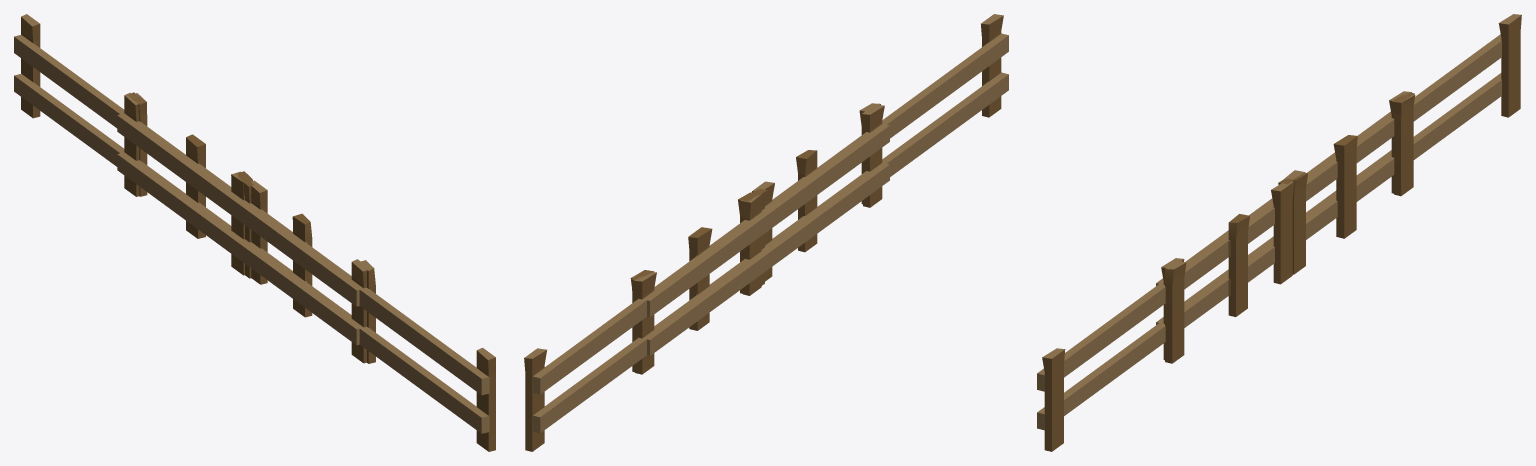
Rendered from Fences export.fbx.
3 renders of one model, left to right at view 1: azimuth 30°, elevation 25°; view 2: azimuth 150°, elevation 25°; view 3: azimuth 330°, elevation 25°, orthographic.
Visible parts, largest first — view 1: Large_Post_closed, Double_post_closed, _Post, post_open, Double_post_open; view 2: Large_Post_closed, Double_post_closed, Double_post_open, _Post, post_open; view 3: Large_Post_closed, Double_post_open, post_open, _Post, Double_post_closed.
Boxes of the visible parts, x1,y1,x2,y2 form: Large_Post_closed: (14, 14, 495, 451); Double_post_closed: (117, 93, 370, 363); _Post: (178, 134, 312, 317); post_open: (180, 134, 307, 283); Double_post_open: (121, 92, 360, 333); Large_Post_closed: (524, 14, 1008, 451); Double_post_closed: (634, 104, 889, 374); Double_post_open: (631, 123, 887, 372); _Post: (689, 150, 824, 330); post_open: (688, 169, 823, 328); Large_Post_closed: (1037, 14, 1521, 451); Double_post_open: (1159, 92, 1414, 327); post_open: (1222, 136, 1357, 296); _Post: (1226, 135, 1356, 316); Double_post_closed: (1156, 91, 1411, 360).
Size of the model in its own units: 23.89 by 107 by 984.
1 material, 1 textured.
